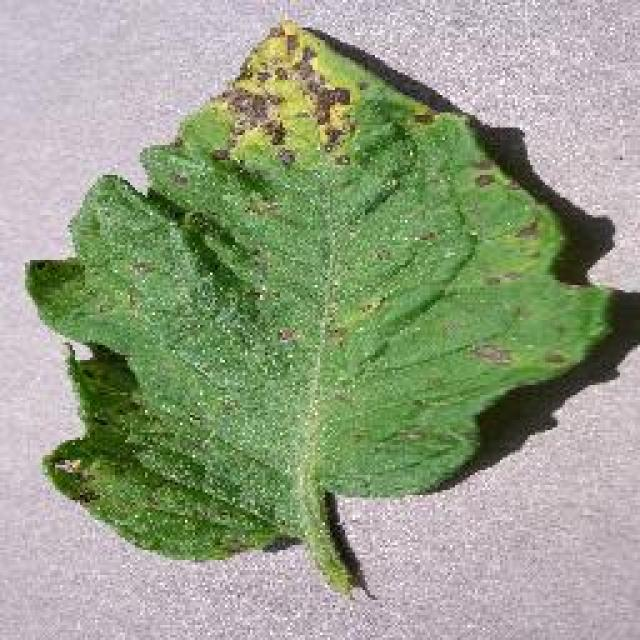Tom_Septoria_leaf_spot: (202, 25, 380, 185), (456, 147, 570, 305)
